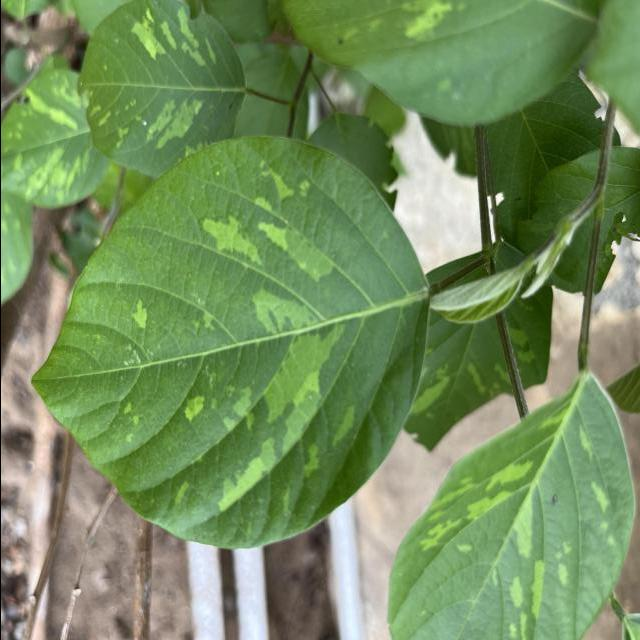Desmodium gangeticum: (27, 131, 435, 551)
